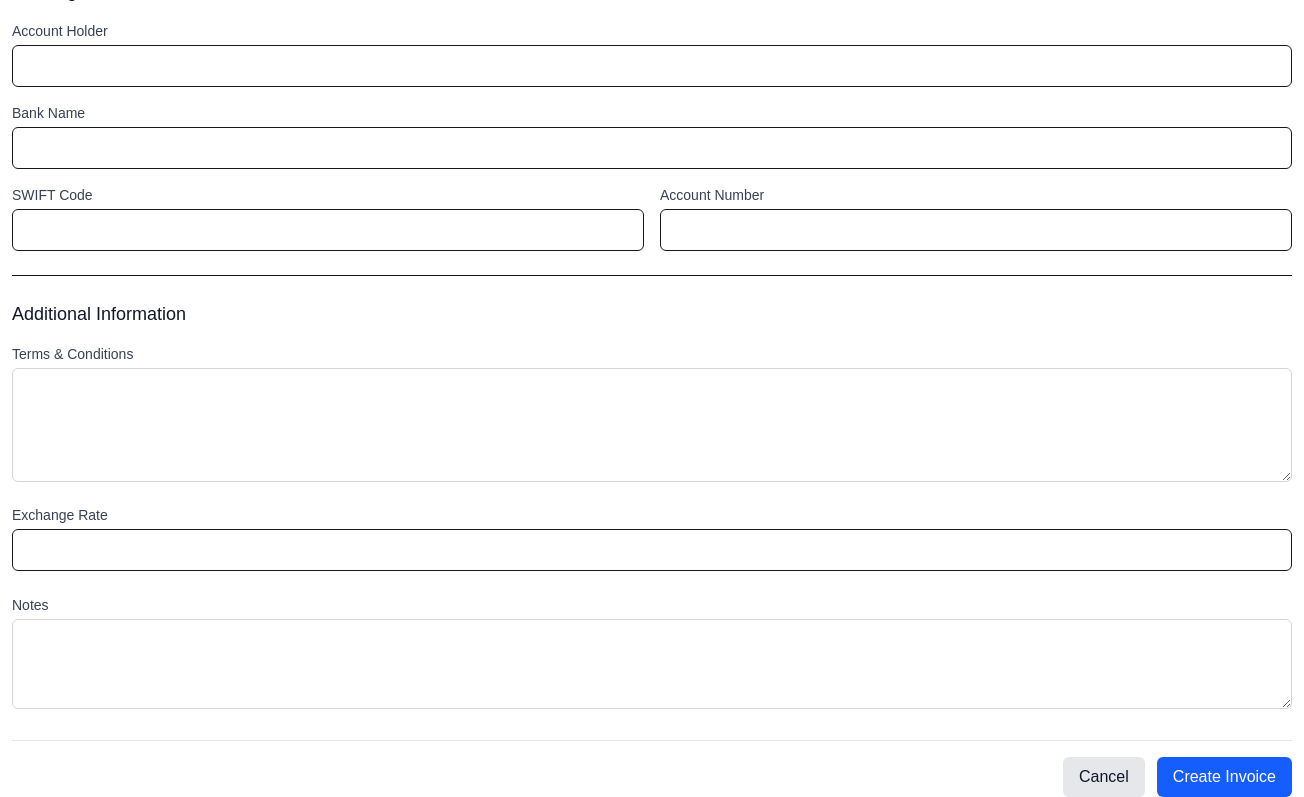
InvoiceForm › validates required fields on submit
(page scrolled)
Click the button "Create Invoice" at x=1224, y=777, box x1=1157 y1=757 x2=1292 y2=796
(page scrolled)
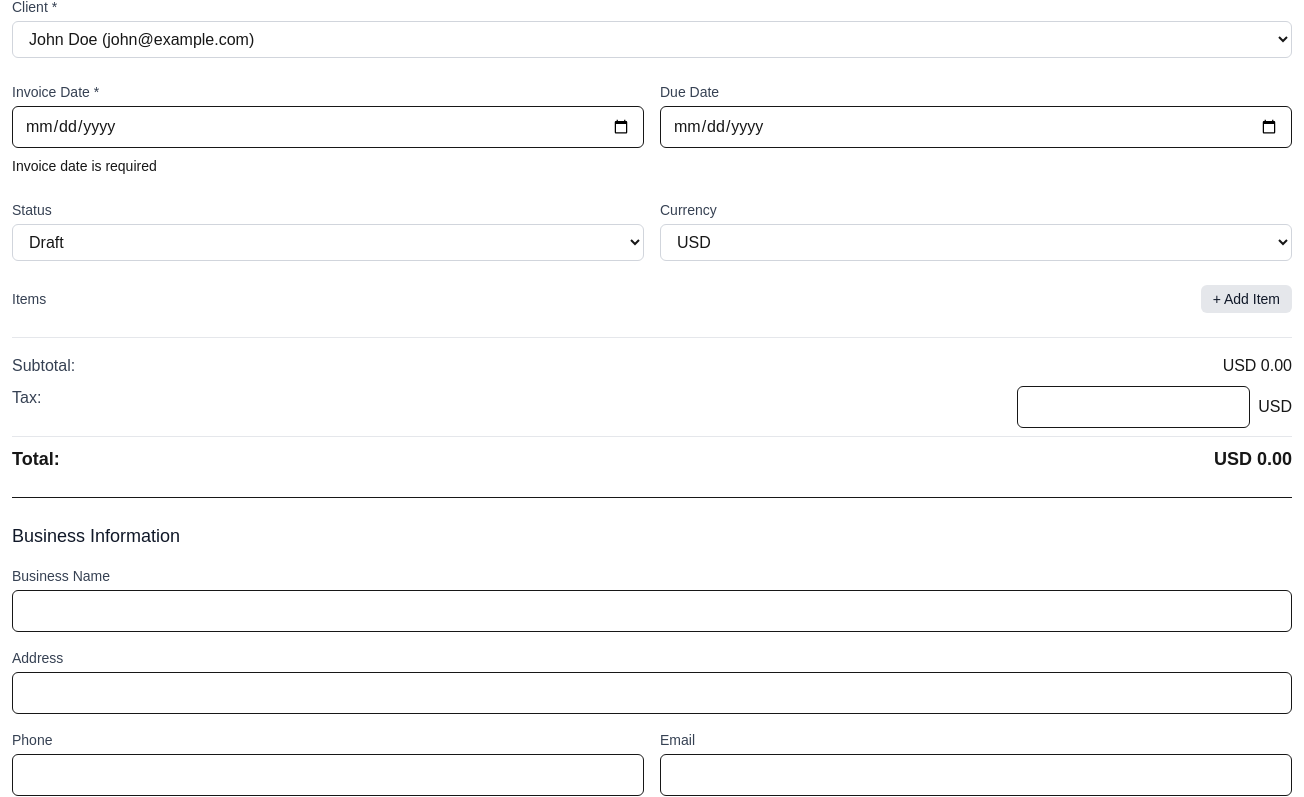
Expected: the text "Invoice date is required" is shown, x1=12 y1=158 x2=157 y2=174
